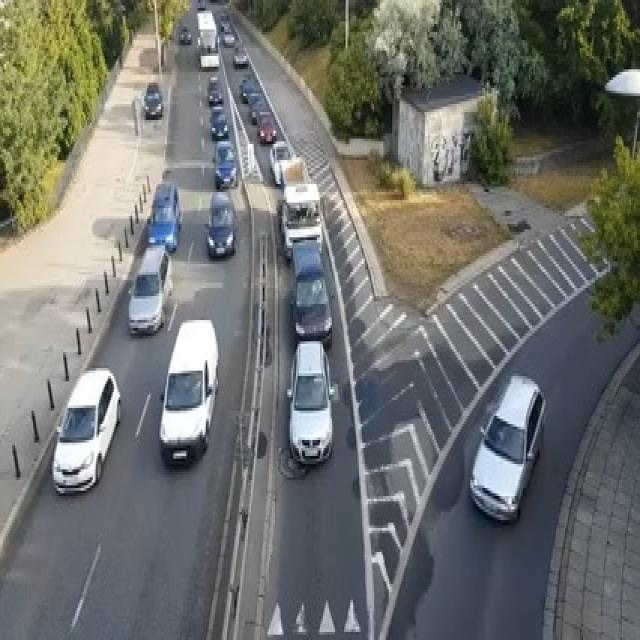car: (469, 370, 545, 522), (158, 317, 218, 467), (51, 366, 120, 494), (286, 339, 334, 464), (290, 240, 332, 347), (126, 243, 173, 336), (280, 181, 322, 259), (147, 178, 182, 250), (204, 189, 236, 259), (212, 139, 237, 189), (269, 139, 291, 184), (140, 80, 164, 117), (197, 29, 219, 67), (257, 112, 276, 144), (209, 106, 228, 138), (251, 96, 267, 123), (208, 75, 222, 104), (239, 75, 254, 101), (233, 42, 248, 66), (221, 27, 234, 45), (219, 11, 230, 32), (179, 24, 191, 43), (197, 0, 206, 8)
